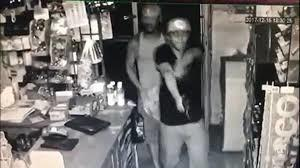weapon: (174, 91, 196, 117)
